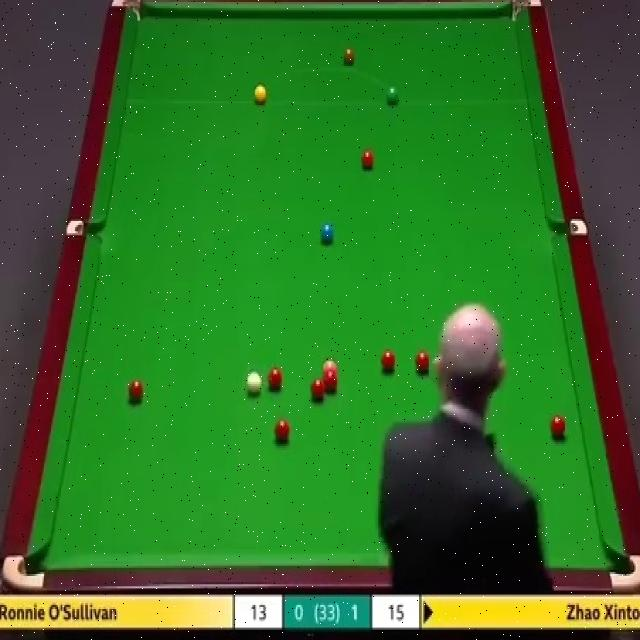blue-ball: (320, 223, 334, 242)
brown-ball: (343, 47, 354, 65)
green-ball: (385, 83, 399, 105)
pink-ball: (322, 358, 338, 376)
red-ball: (273, 419, 292, 444), (128, 378, 144, 407), (380, 350, 396, 374), (415, 347, 430, 372), (549, 415, 566, 437), (267, 368, 283, 390), (311, 379, 326, 402), (360, 150, 374, 171), (322, 374, 337, 391)
white-ball: (247, 371, 262, 396)
yellow-ball: (253, 84, 266, 104)
